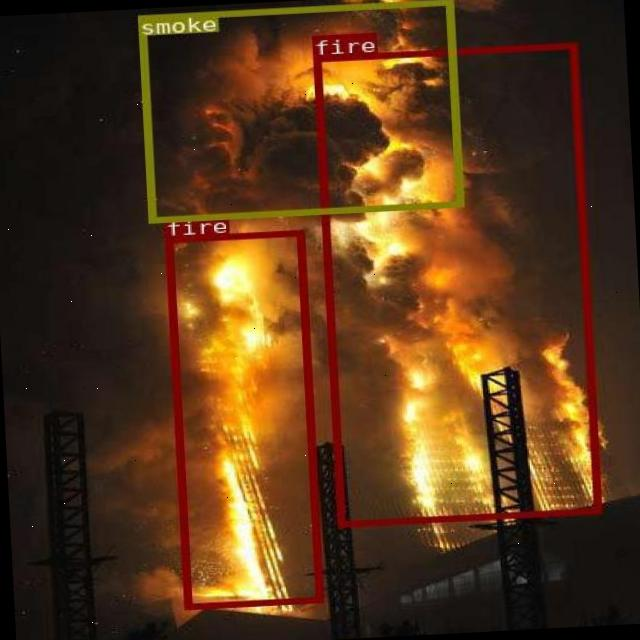fire: (314, 41, 600, 526), (165, 230, 322, 608)
smoke: (137, 0, 462, 223)
